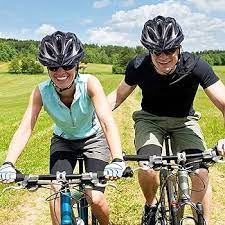helmets: (35, 26, 85, 68), (137, 16, 187, 53)
